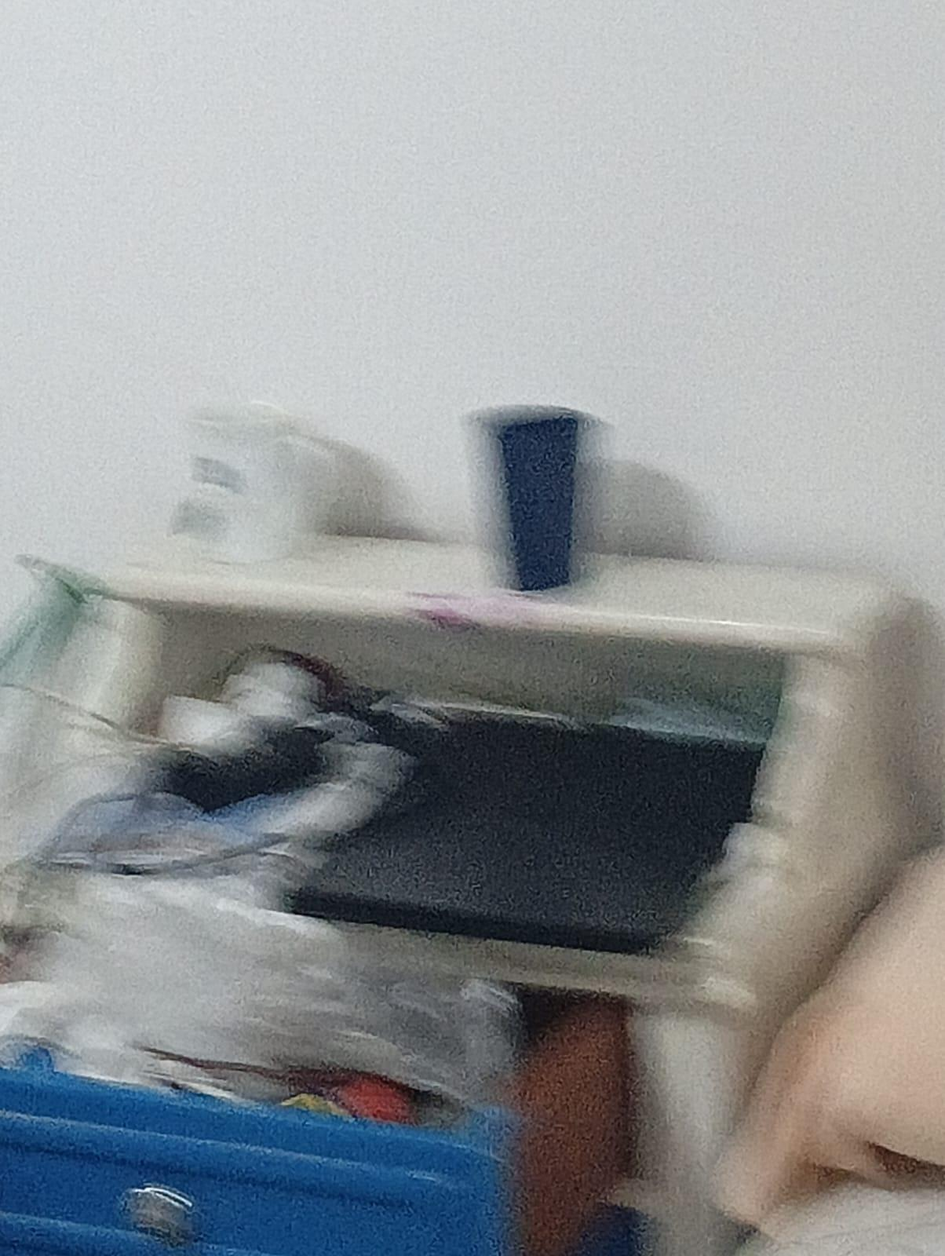cup: (172, 403, 341, 564), (475, 406, 597, 592)
